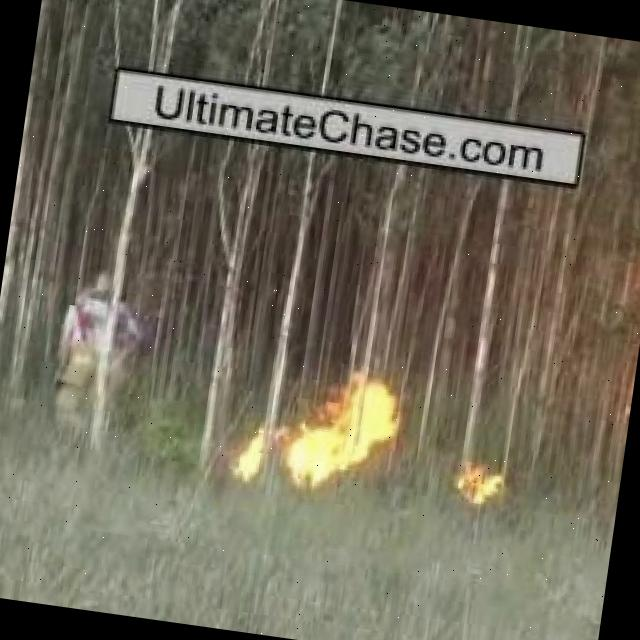fire: (284, 362, 411, 497), (451, 450, 512, 514), (232, 422, 271, 490)
